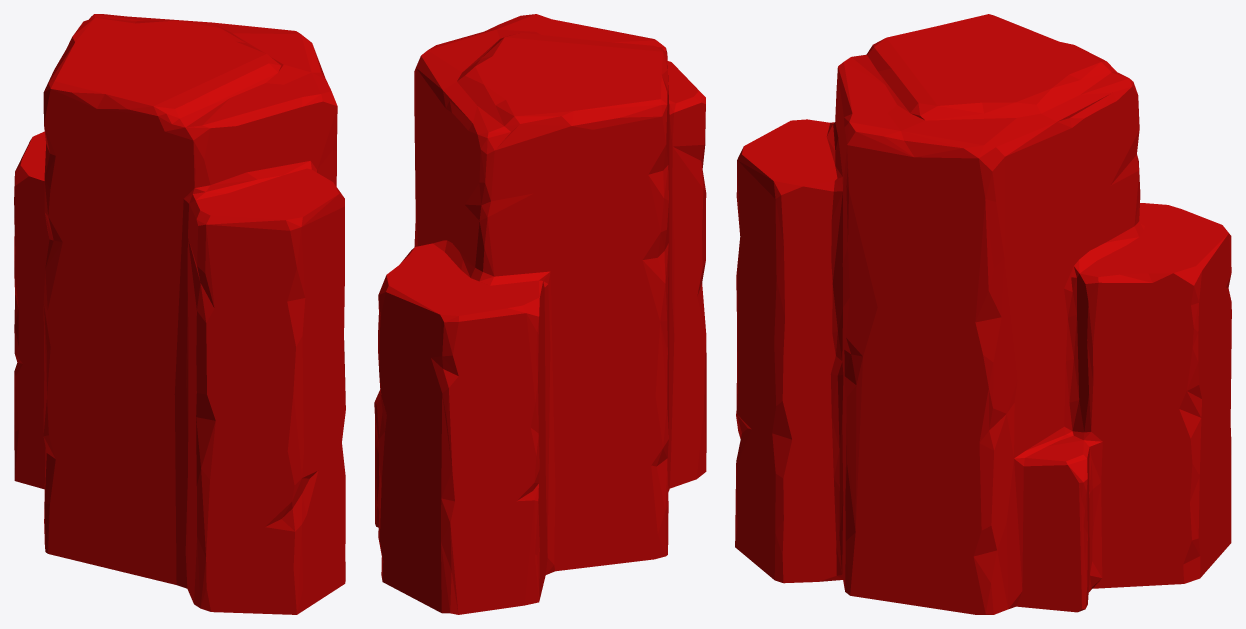
Rendered from Rock.fbx.
The picture shows the model from 3 angles, left to right: view 1: azimuth 30°, elevation 25°; view 2: azimuth 150°, elevation 25°; view 3: azimuth 270°, elevation 25°; orthographic projection. The views are drawn at different scales.
Parts seen in each view (by area): view 1: RockLow.001; view 2: RockLow.001; view 3: RockLow.001.
Part boxes in pixels (bbox=[...]): RockLow.001: bbox=[14, 14, 345, 614]; RockLow.001: bbox=[374, 14, 706, 614]; RockLow.001: bbox=[735, 14, 1231, 614].
Bounding box in the file's own units: 1.89 × 3.25 × 3.07.
